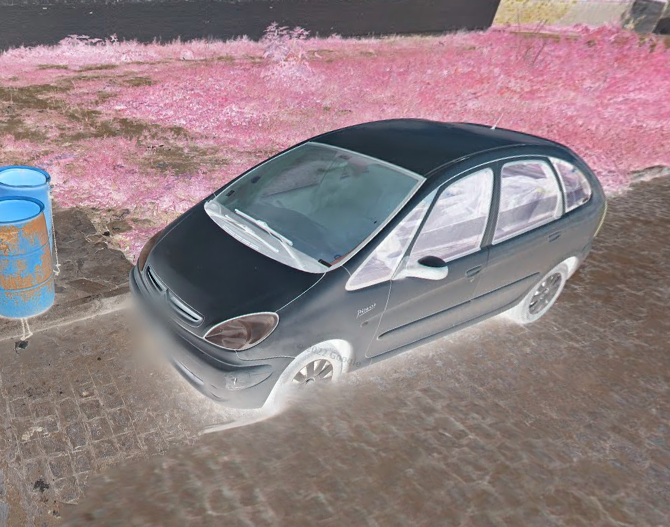car: (126, 115, 610, 413)
